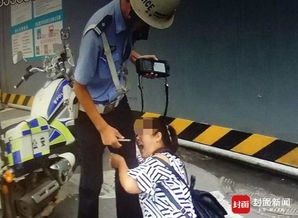falling: (101, 107, 259, 217)
